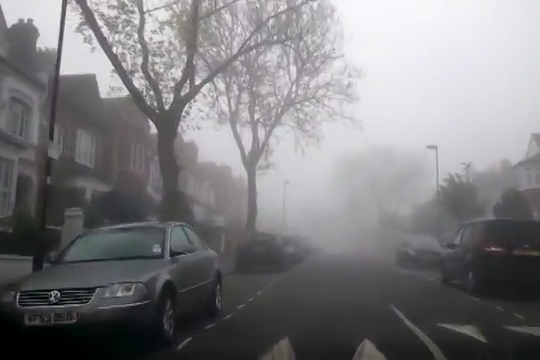car: (1, 219, 224, 353), (436, 217, 540, 303), (235, 231, 286, 273), (392, 232, 444, 269)
